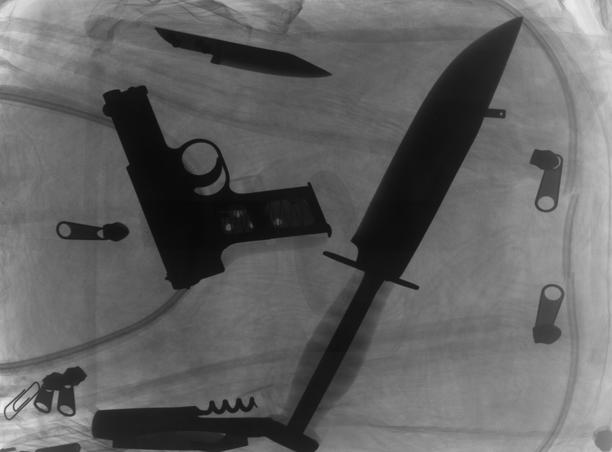Handgun: (100, 82, 332, 292)
Knife: (263, 13, 527, 452), (83, 12, 333, 79)
